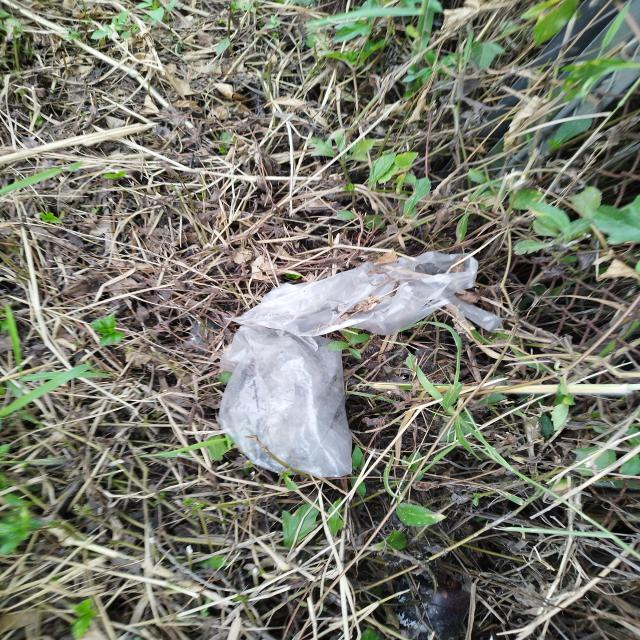bag: (221, 252, 502, 478)
